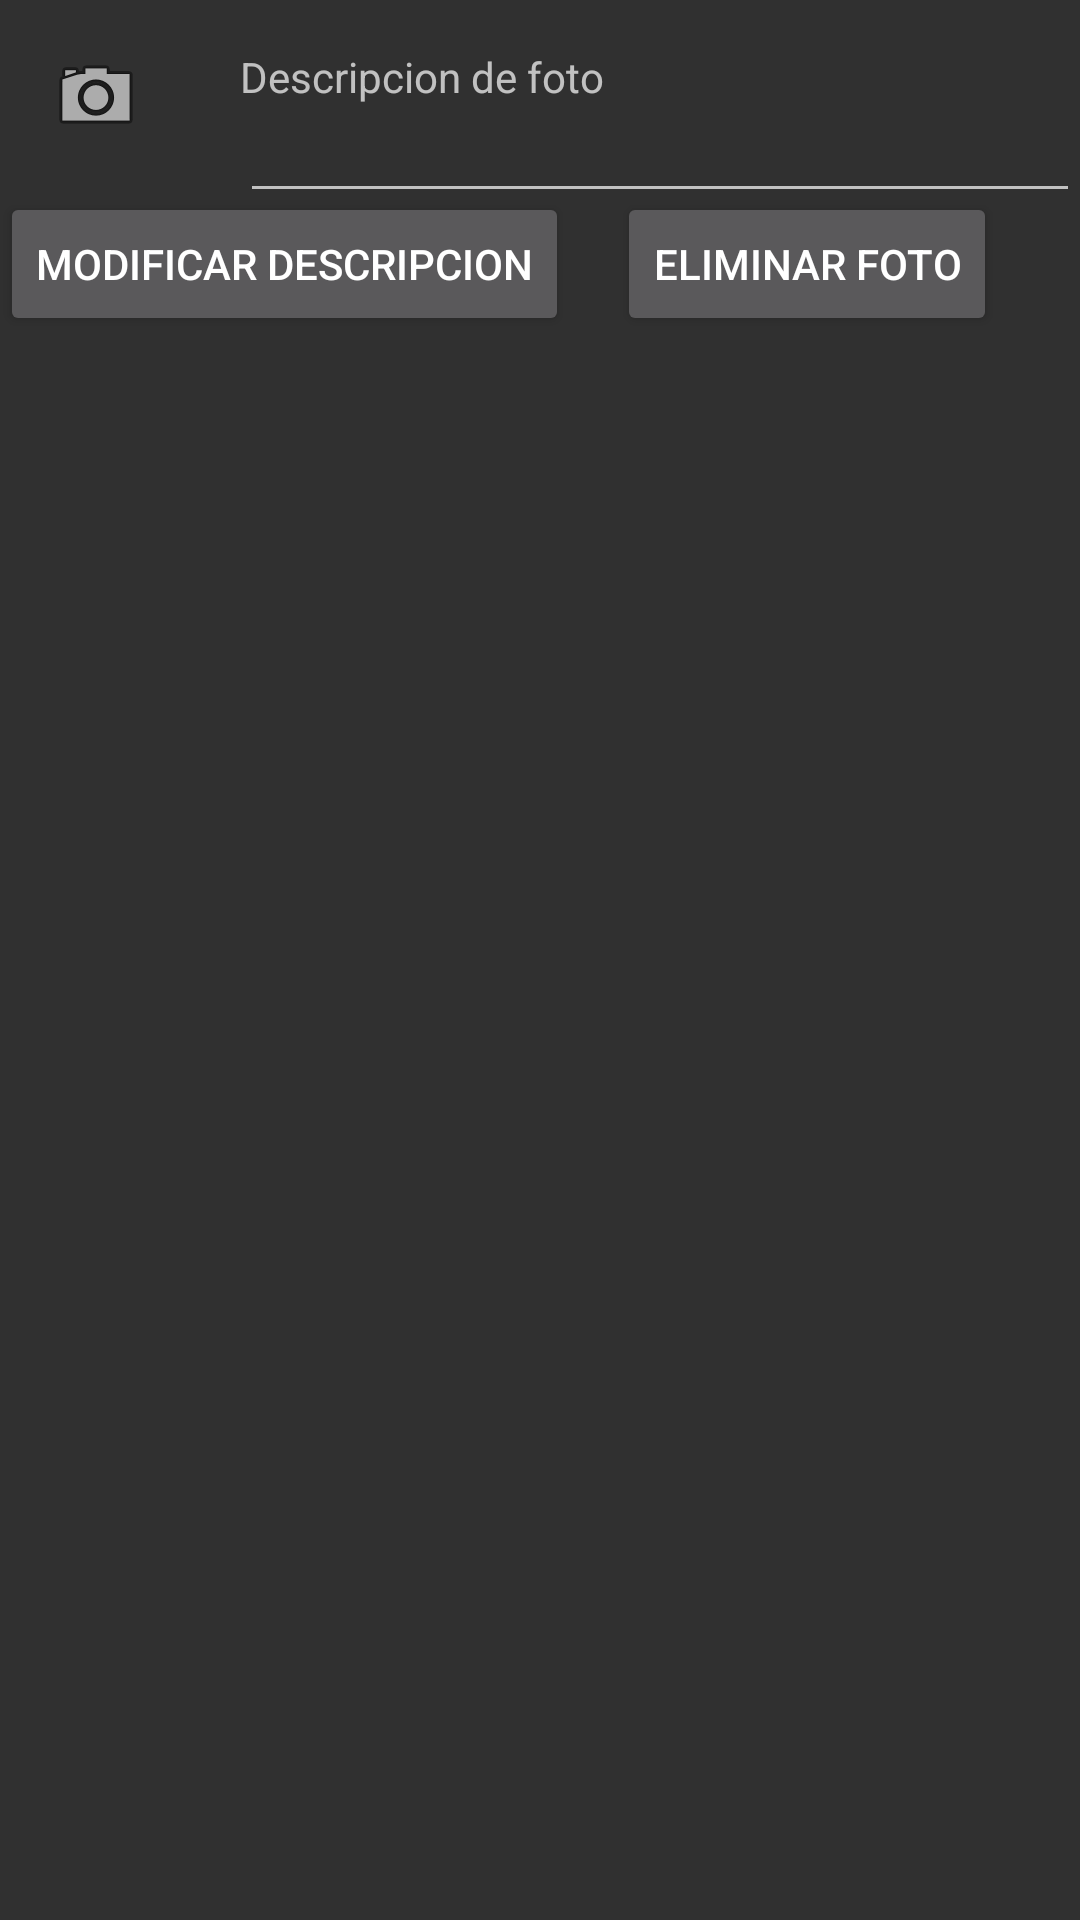

Icons on this 1080 × 1920 Android screen, each with its box as {"left": x1, "top": y1, "right": x2, "bottom": y2}:
camera: {"left": 61, "top": 67, "right": 131, "bottom": 122}
